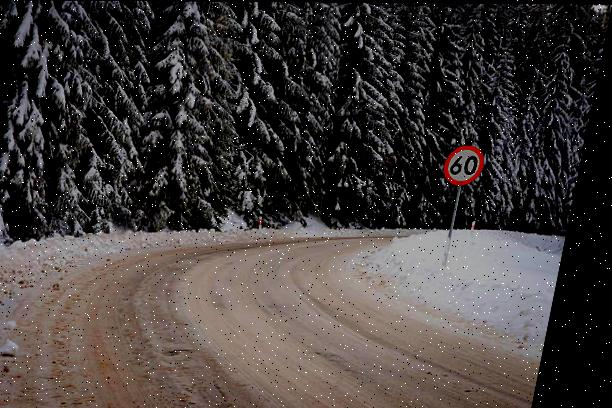Speed Limit -60-: (446, 141, 494, 186)
